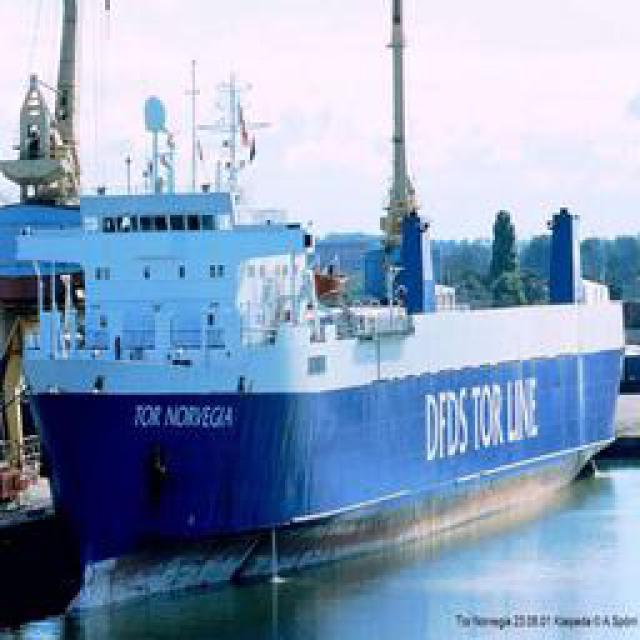Ship: (14, 21, 629, 629)
